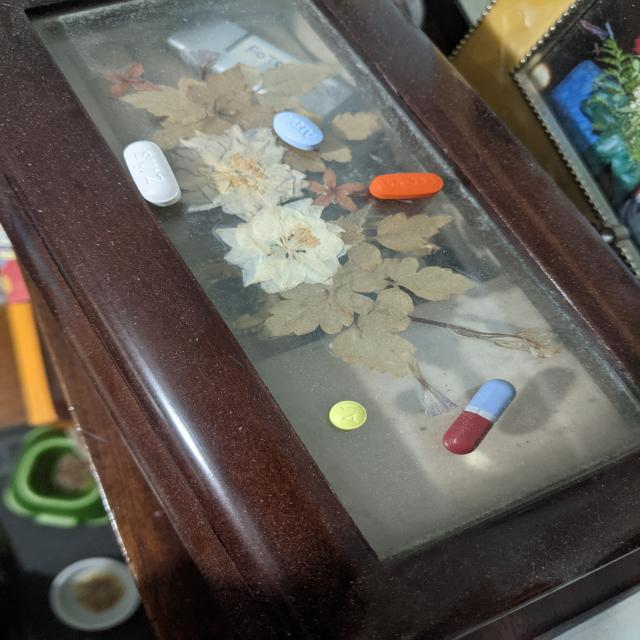non-organic waste: (441, 378, 518, 456), (122, 139, 183, 208), (368, 171, 444, 200), (272, 111, 325, 152), (328, 400, 368, 431)
